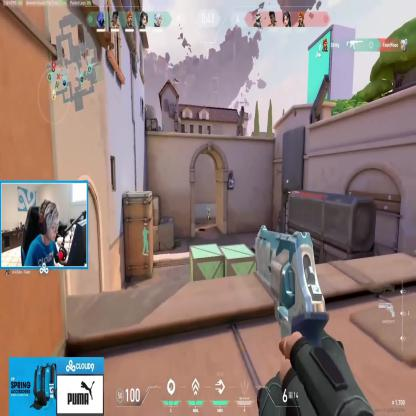enemy: (207, 206, 210, 221)
enemy_head: (207, 206, 209, 210)
